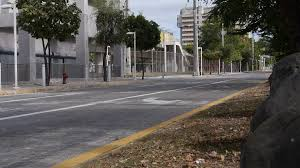strada: (0, 73, 296, 167)
